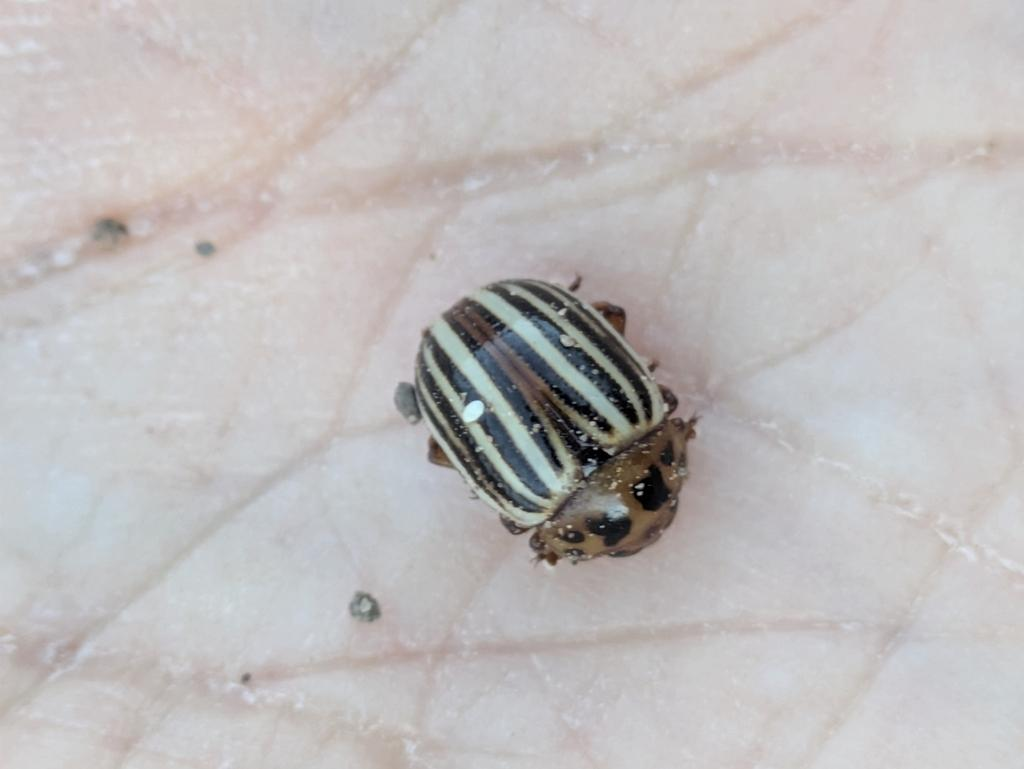potato_beetle: (334, 209, 753, 617)
